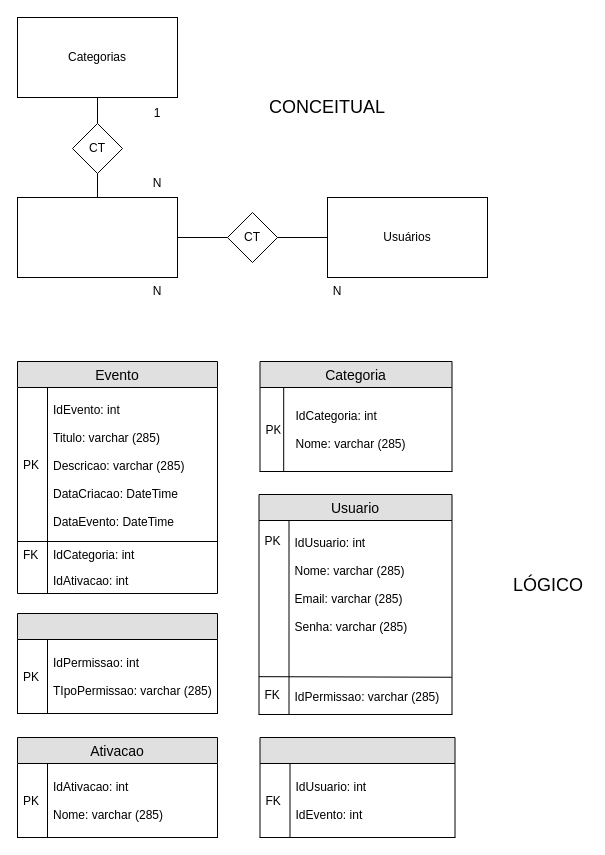
This 605x855 diagram has some shape labels left out. Here are the shapes that lost their labels. From the top down, the box of each, then its label:
(16, 196, 178, 278): Eventos
(16, 612, 218, 714): TipoUsuario
(259, 736, 455, 838): UsuarioEvento
